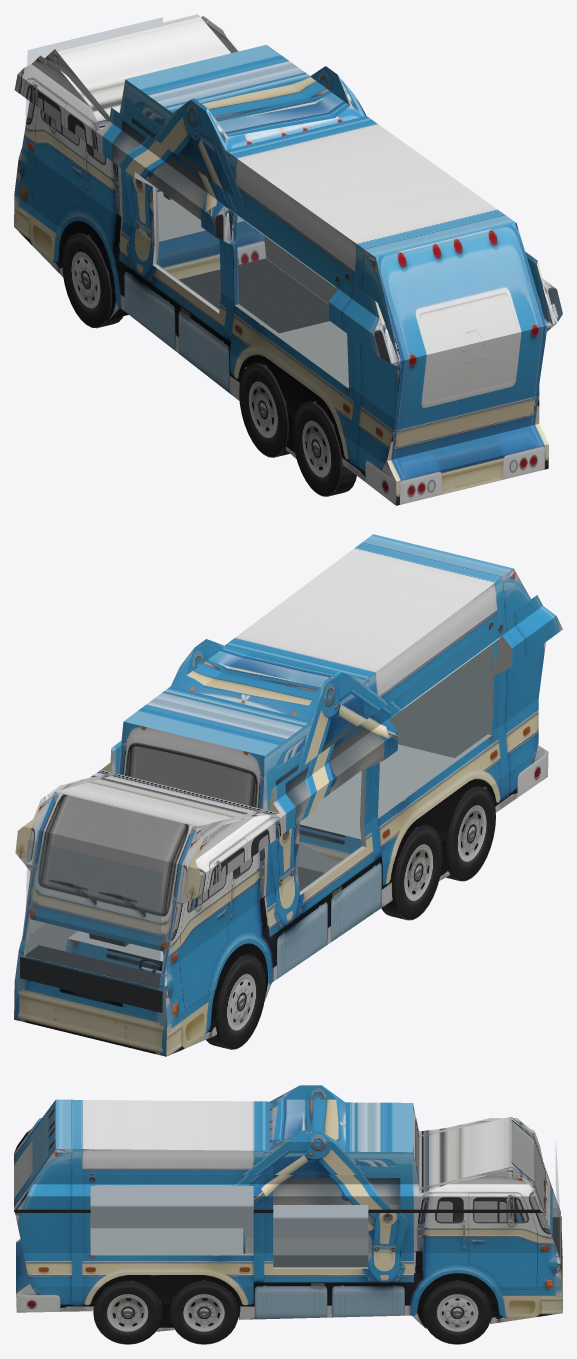
The model's file is recycling_truck.glb.
3 renders of one model, top to bottom at view 1: azimuth 30°, elevation 25°; view 2: azimuth 150°, elevation 25°; view 3: azimuth 270°, elevation 25°, orthographic. The views are drawn at different scales.
Parts seen in each view (by area): view 1: recycling_truck, recycling_truck_cabin, wheel_BL, wheel_FL, wheel_M1L; view 2: recycling_truck, recycling_truck_cabin, wheel_M1L, wheel_FL, wheel_BL; view 3: recycling_truck, recycling_truck_cabin, wheel_BR, wheel_FR, wheel_M1R.
Part boxes in pixels (<box>): recycling_truck: <box>14,14,562,505</box>; recycling_truck_cabin: <box>25,17,348,387</box>; wheel_BL: <box>292,402,356,496</box>; wheel_FL: <box>62,233,123,328</box>; wheel_M1L: <box>239,363,289,457</box>; recycling_truck: <box>14,534,562,1056</box>; recycling_truck_cabin: <box>20,645,491,1012</box>; wheel_M1L: <box>381,826,442,920</box>; wheel_FL: <box>206,955,265,1049</box>; wheel_BL: <box>446,787,495,881</box>; recycling_truck: <box>14,1085,562,1331</box>; recycling_truck_cabin: <box>90,1150,561,1275</box>; wheel_BR: <box>93,1280,162,1344</box>; wheel_FR: <box>422,1280,491,1344</box>; wheel_M1R: <box>169,1280,238,1344</box>.
Bounding box in the file's own units: 2.49 × 3.8 × 8.99.
Materials: 12 (4 with a texture image).
